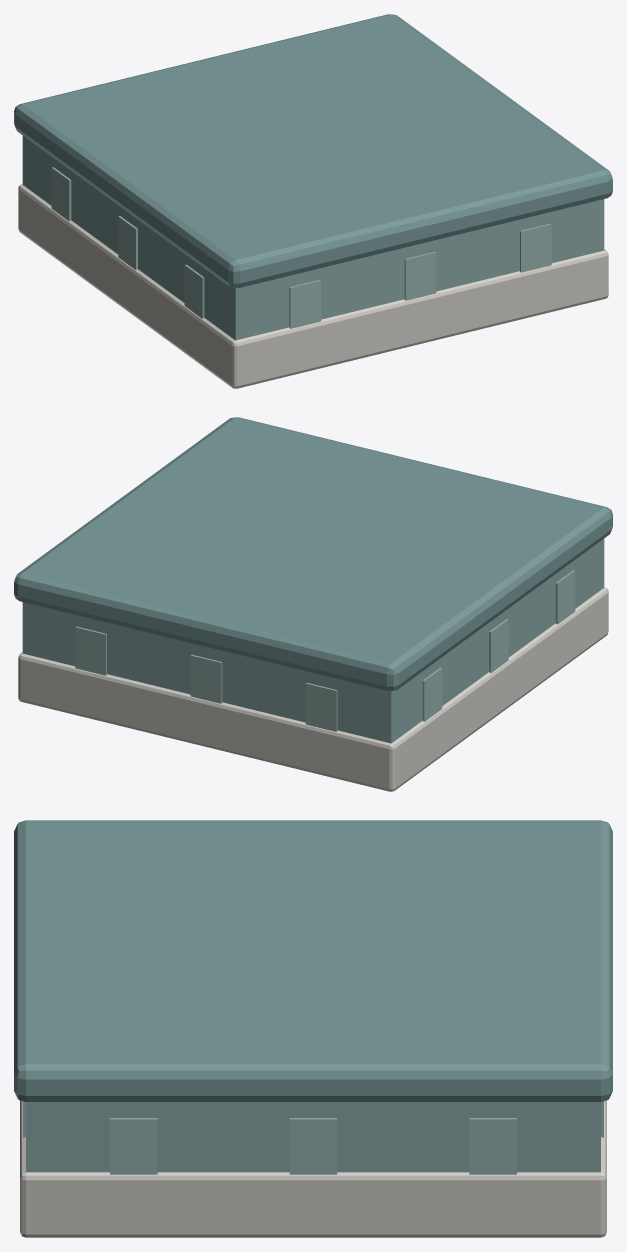
The model's file is wall_room_low.glb.
3 renders of one model, top to bottom at view 1: azimuth 30°, elevation 25°; view 2: azimuth 150°, elevation 25°; view 3: azimuth 270°, elevation 25°, orthographic. The views are drawn at different scales.
Parts seen in each view (by area): view 1: wall_room_low; view 2: wall_room_low; view 3: wall_room_low.
Part boxes in pixels (<box>): wall_room_low: <box>14,14,612,388</box>; wall_room_low: <box>14,417,612,791</box>; wall_room_low: <box>14,820,612,1237</box>.
Bounding box in the file's own units: 1 × 0.32 × 1.
